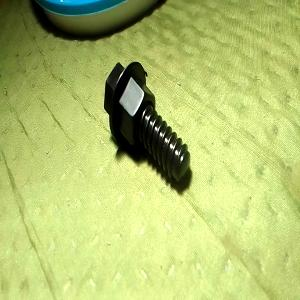parafuso: (103, 60, 192, 183)
